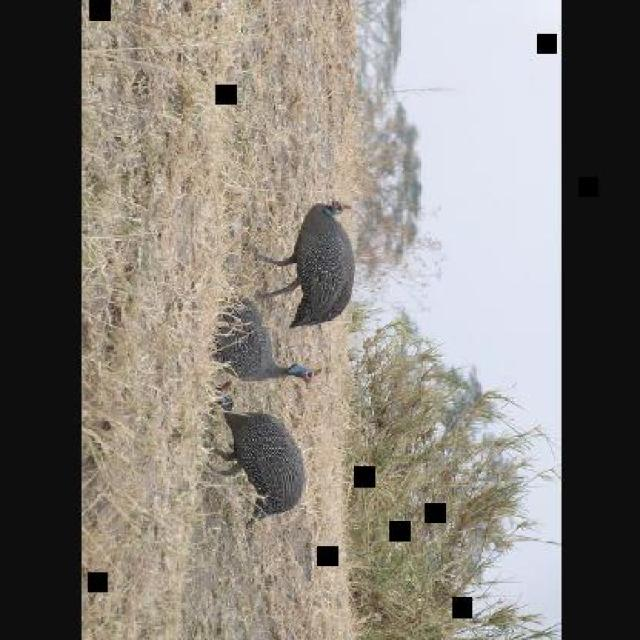unauthorized: (252, 197, 356, 329), (217, 406, 306, 525), (209, 296, 317, 386)
